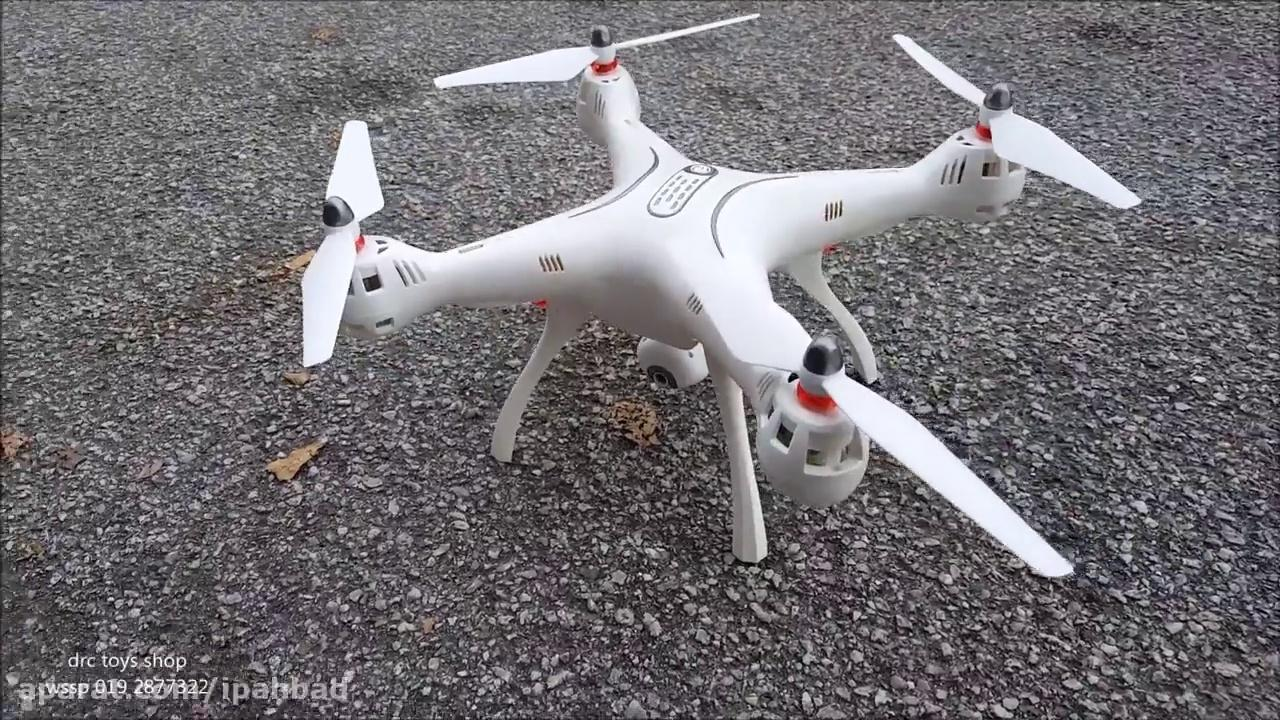drone: (285, 6, 1147, 585)
